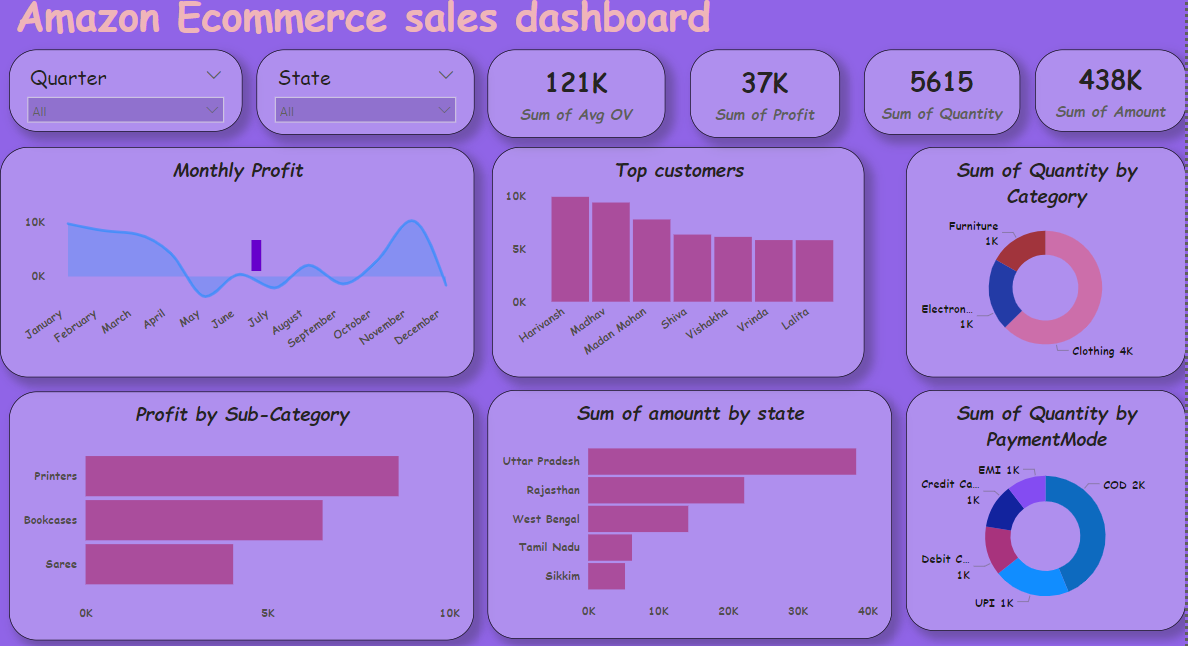

Layout of this report page (visuals, bound fields, positions):
{"tool":"powerbi","page":{"name":"Page 1","canvas":[1280,720],"ordinal":0},"visuals":[{"type":"textbox","box":[10.5,0,847.4,70.2],"z":0},{"type":"areaChart","title":"Monthly Profit","fields":{"Category":["Orders.Order Date.Variation.Date Hierarchy.Month"],"Y":["Details.Profit"]},"box":[0,178.3,511.7,248.3],"z":1000},{"type":"barChart","title":"Profit by Sub-Category","fields":{"Category":["Details.Sub-Category"],"Y":["Details.Profit"]},"box":[10,441.7,501.7,268.3],"z":2000},{"type":"donutChart","fields":{"Y":["Details.Quantity"],"Series":["Details.Category"]},"box":[978.3,178.3,301.7,248.3],"z":3000},{"type":"donutChart","fields":{"Y":["Details.Quantity"],"Category":["Details.PaymentMode"]},"box":[978.3,440,301.7,260],"z":4000},{"type":"card","fields":{"Values":["Details.Amount"]},"box":[1116.7,73.3,163.3,88.3],"z":5000},{"type":"card","fields":{"Values":["Details.Avg OV"]},"box":[526.7,73.3,191.7,95],"z":6000},{"type":"card","fields":{"Values":["Details.Quantity"]},"box":[933.3,73.3,168.3,91.7],"z":7000},{"type":"card","fields":{"Values":["Details.Profit"]},"box":[745,73.3,161.7,95],"z":8000},{"type":"barChart","title":"Sum of amountt by state","fields":{"Category":["Orders.State"],"Y":["Details.Amount"]},"box":[526.7,440,436.7,268.3],"z":9000},{"type":"columnChart","title":"Top customers","fields":{"Category":["Orders.CustomerName"],"Y":["Details.Amount"]},"box":[531.7,178.3,401.7,248.3],"z":10000},{"type":"slicer","fields":{"Values":["Orders.Order Date.Variation.Date Hierarchy.Quarter"]},"box":[10,73.3,251.7,88.3],"z":11000},{"type":"slicer","fields":{"Values":["Orders.State"]},"box":[276.7,73.3,235,91.7],"z":11001}]}

Visuals, with their boxes in screenshot pixels (x1, y1, x2, y2):
textbox: (13, 0, 791, 46)
"Monthly Profit" areaChart: (3, 145, 473, 373)
"Profit by Sub-Category" barChart: (12, 387, 473, 633)
donutChart - Details.Quantity x Details.Category: (901, 145, 1178, 373)
donutChart - Details.Quantity x Details.PaymentMode: (901, 385, 1178, 624)
card - Details.Amount: (1028, 49, 1178, 130)
card - Details.Avg OV: (487, 49, 663, 136)
card - Details.Quantity: (860, 49, 1015, 133)
card - Details.Profit: (687, 49, 836, 136)
"Sum of amountt by state" barChart: (487, 385, 888, 632)
"Top customers" columnChart: (491, 145, 860, 373)
slicer - Orders.Order Date.Variation.Date Hierarchy.Quarter: (12, 49, 243, 130)
slicer - Orders.State: (257, 49, 473, 133)
